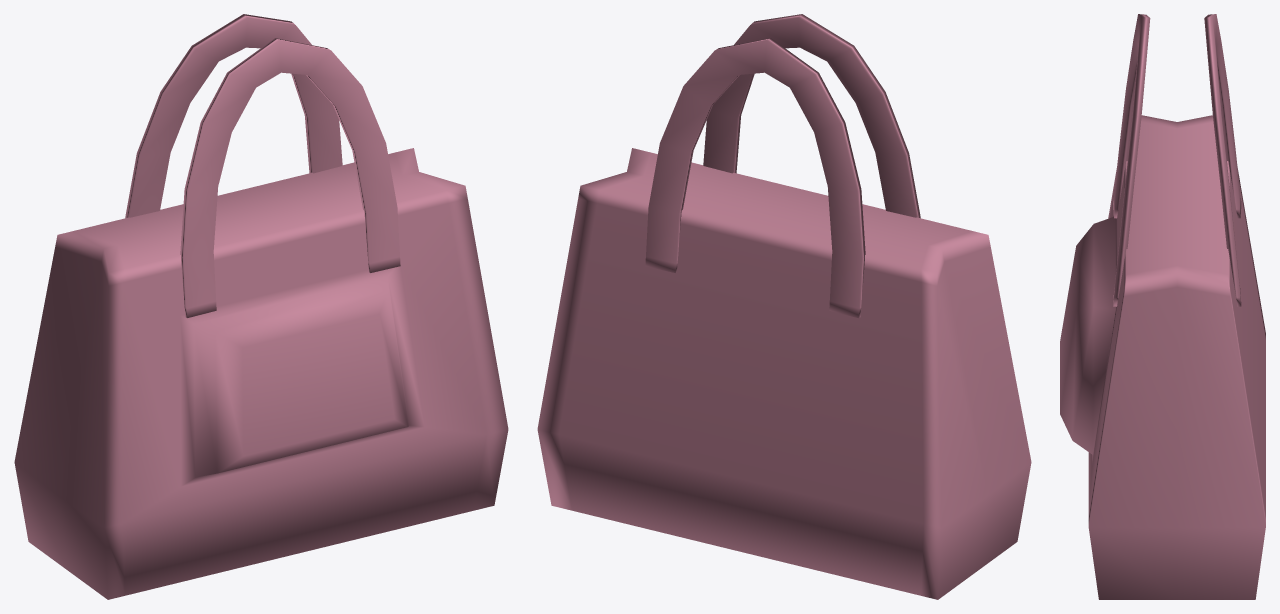
The model's file is faiths purse.fbx.
The picture shows the model from 3 angles, left to right: view 1: azimuth 30°, elevation 25°; view 2: azimuth 150°, elevation 25°; view 3: azimuth 270°, elevation 25°; orthographic projection.
Parts seen in each view (by area): view 1: faiths purse; view 2: faiths purse; view 3: faiths purse.
Boxes of the visible parts, left/top/right/bottom form: faiths purse: left=14, top=14, right=508, bottom=599; faiths purse: left=537, top=14, right=1031, bottom=599; faiths purse: left=1060, top=14, right=1265, bottom=599.
Bounding box in the file's own units: 0.477 × 0.5561 × 0.2119.
